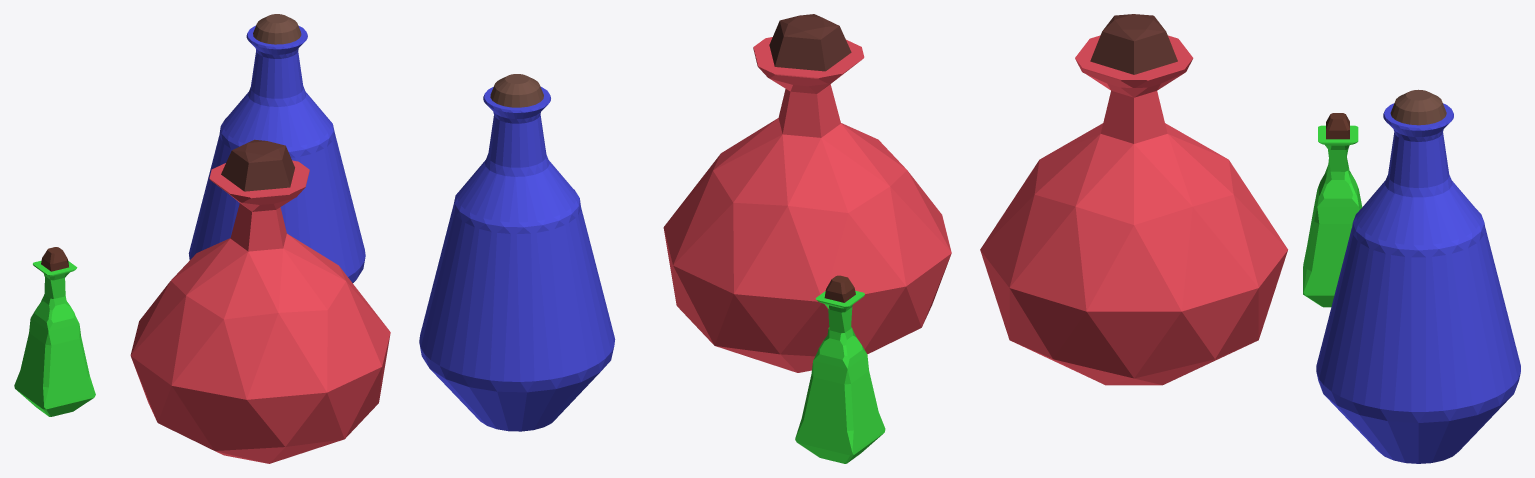
File: Potion-ustawienie1.fbx
The picture shows the model from 3 angles, left to right: view 1: azimuth 30°, elevation 25°; view 2: azimuth 150°, elevation 25°; view 3: azimuth 270°, elevation 25°; orthographic projection. The views are drawn at different scales.
Visible parts, largest first — view 1: Cube; view 2: Cube; view 3: Cube.
Boxes of the visible parts, box(x1,y1,x2,y2) form: Cube: box(14, 14, 390, 463); Cube: box(419, 14, 951, 463); Cube: box(980, 14, 1520, 463).
Size of the model in its own units: 312 by 252 by 351.
